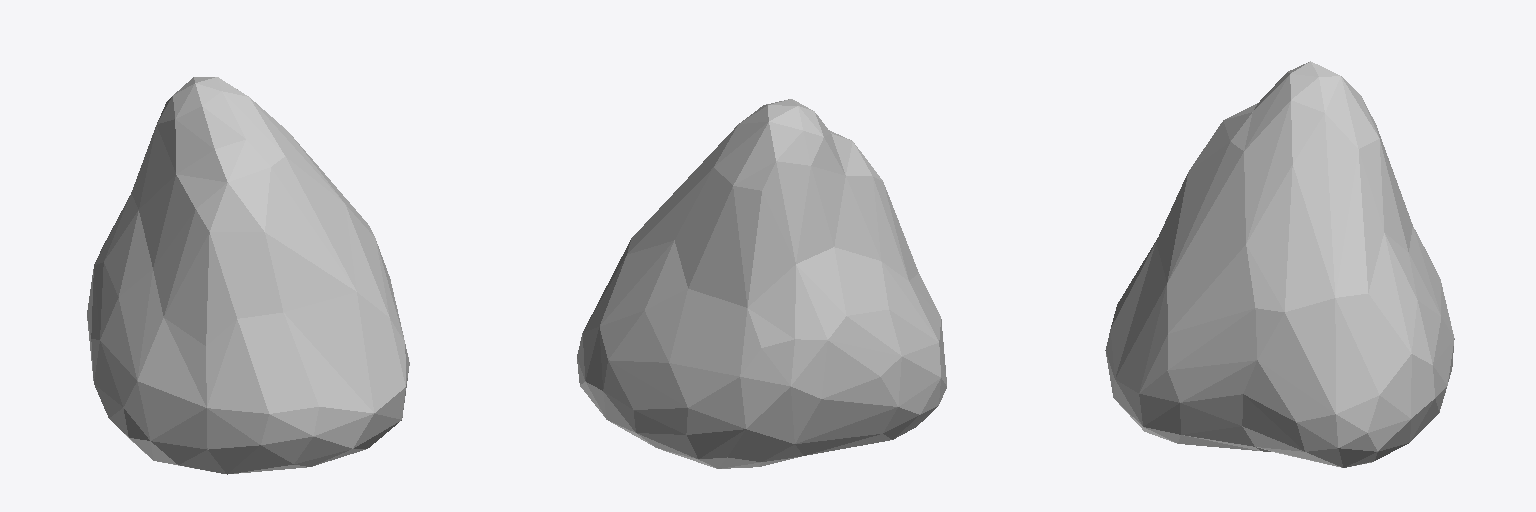
Rendered from rock_02.obj.
The picture shows the model from 3 angles: view 1: azimuth 30°, elevation 25°; view 2: azimuth 150°, elevation 25°; view 3: azimuth 270°, elevation 25°; orthographic projection.
Parts seen in each view (by area): view 1: Icosphere; view 2: Icosphere; view 3: Icosphere.
Part boxes in pixels (x1,y1,x2,y2): Icosphere: (87,77,409,474); Icosphere: (577,99,946,468); Icosphere: (1105,61,1454,467).
Bounding box in the file's own units: 2.31 × 2.49 × 2.28.